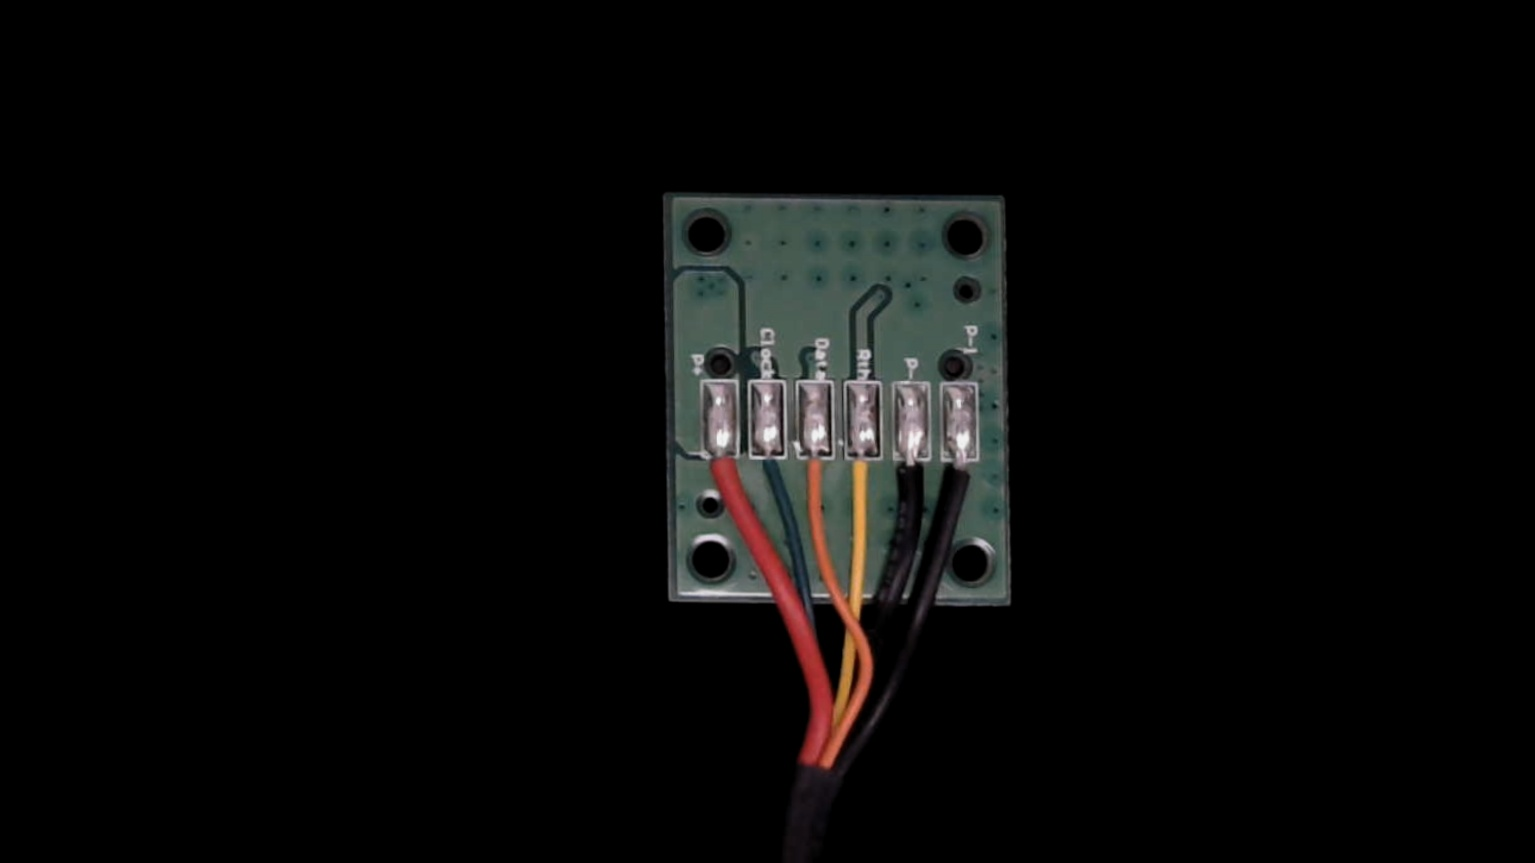Black: (890, 437, 934, 528)
Black1: (948, 438, 985, 525)
Green: (752, 436, 788, 512)
Orange: (798, 436, 839, 526)
Red: (703, 435, 743, 519)
Yellow: (840, 438, 885, 530)
